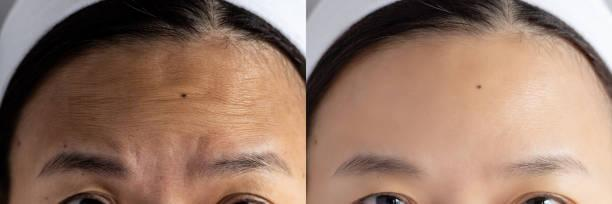Dry-Skin: (79, 66, 278, 147)
